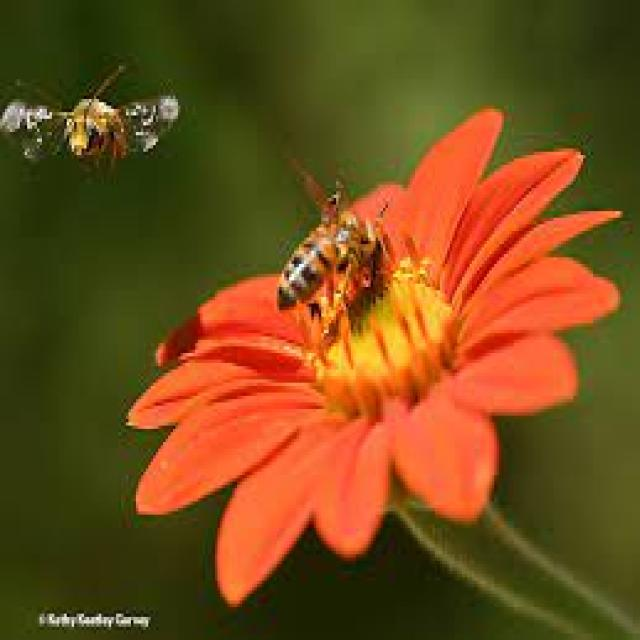Bees: (1, 66, 180, 181), (277, 160, 380, 319)
